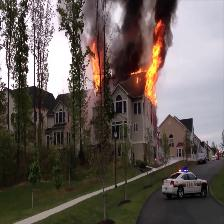fire: (143, 23, 163, 104), (89, 35, 104, 95)
smoke: (113, 1, 141, 71), (158, 0, 172, 21)
